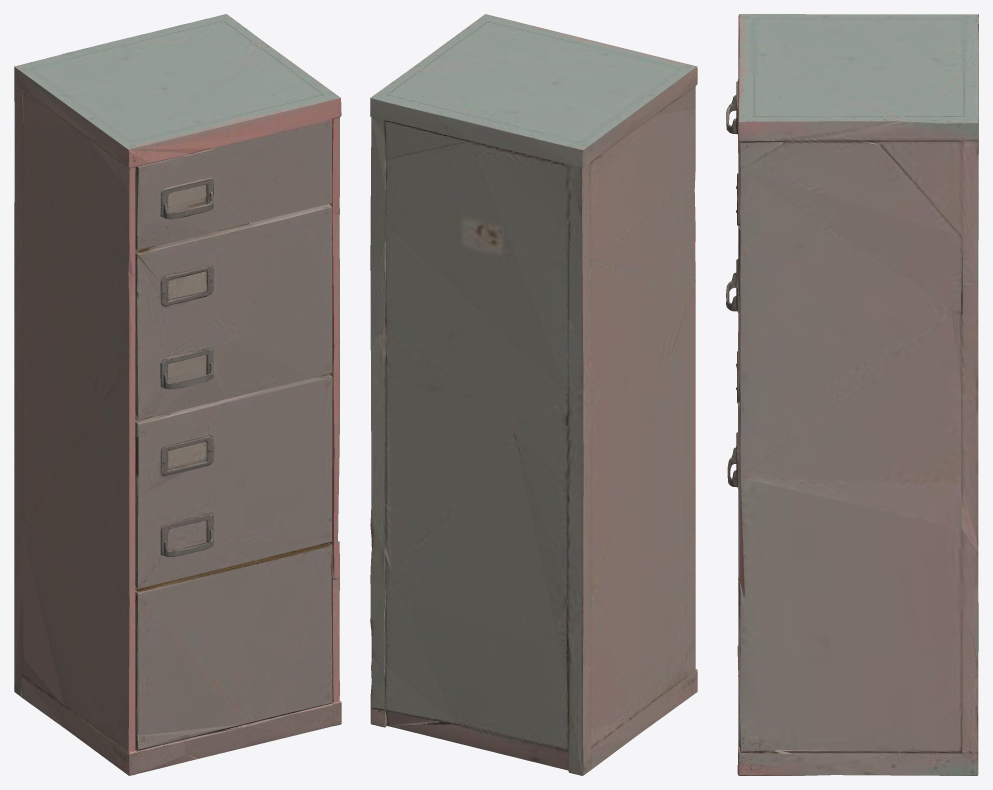
Rendered from schedario_B.glb.
3 views of the same model, side by side, from view 1: azimuth 30°, elevation 25°; view 2: azimuth 150°, elevation 25°; view 3: azimuth 270°, elevation 25° (orthographic). The views are drawn at different scales.
Visible parts, largest first — view 1: Mesh_0; view 2: Mesh_0; view 3: Mesh_0.
Boxes of the visible parts, box(x1,y1,x2,y2) form: Mesh_0: box(14, 14, 341, 775); Mesh_0: box(370, 14, 697, 775); Mesh_0: box(726, 14, 978, 775).
Size of the model in its own units: 0.4807 by 1.35 by 0.4728.
Materials: 1 (1 with a texture image).
